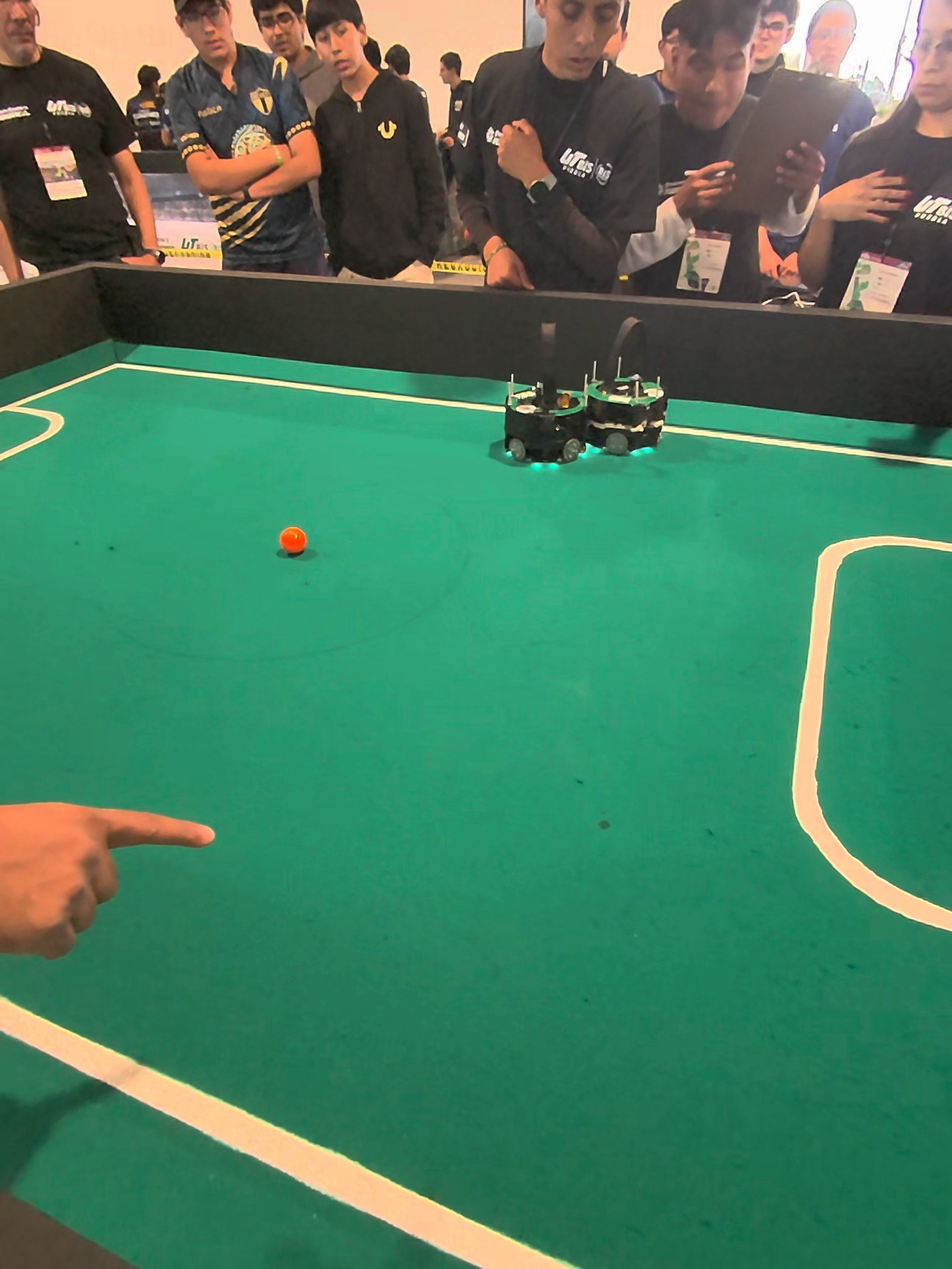Robot: (585, 311, 676, 466)
pelota: (267, 515, 323, 574)
